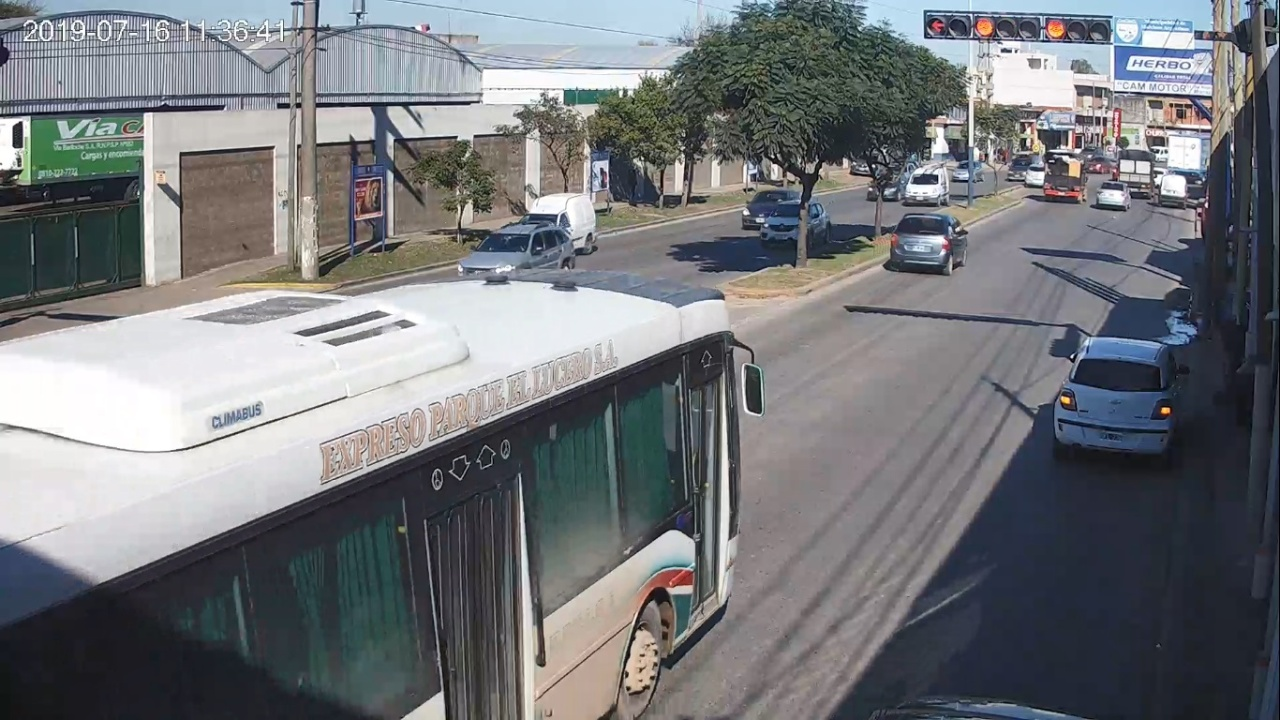bus: (1, 267, 763, 720)
car: (890, 214, 968, 276)
